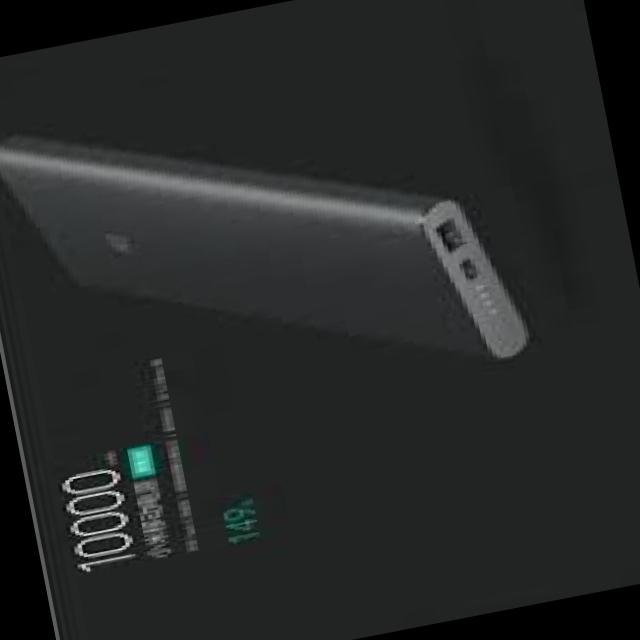portable-charger: (0, 46, 539, 455)
